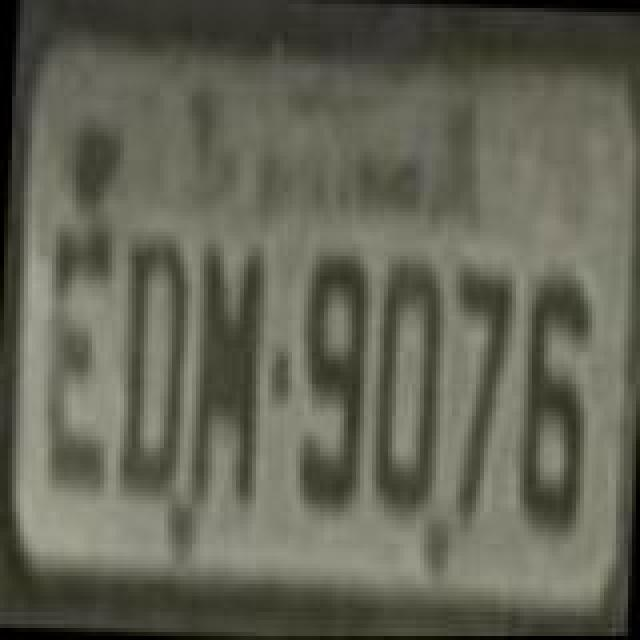6: (510, 264, 590, 536)
7: (442, 256, 514, 520)
9: (294, 248, 374, 516)
D: (110, 232, 190, 508)
E: (38, 218, 118, 502)
M: (184, 236, 268, 512)
O: (366, 254, 446, 518)
